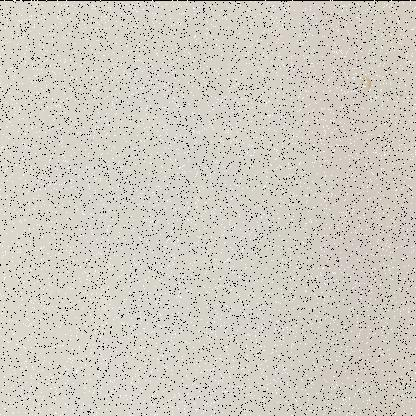Nocrack: (0, 9, 409, 415)
